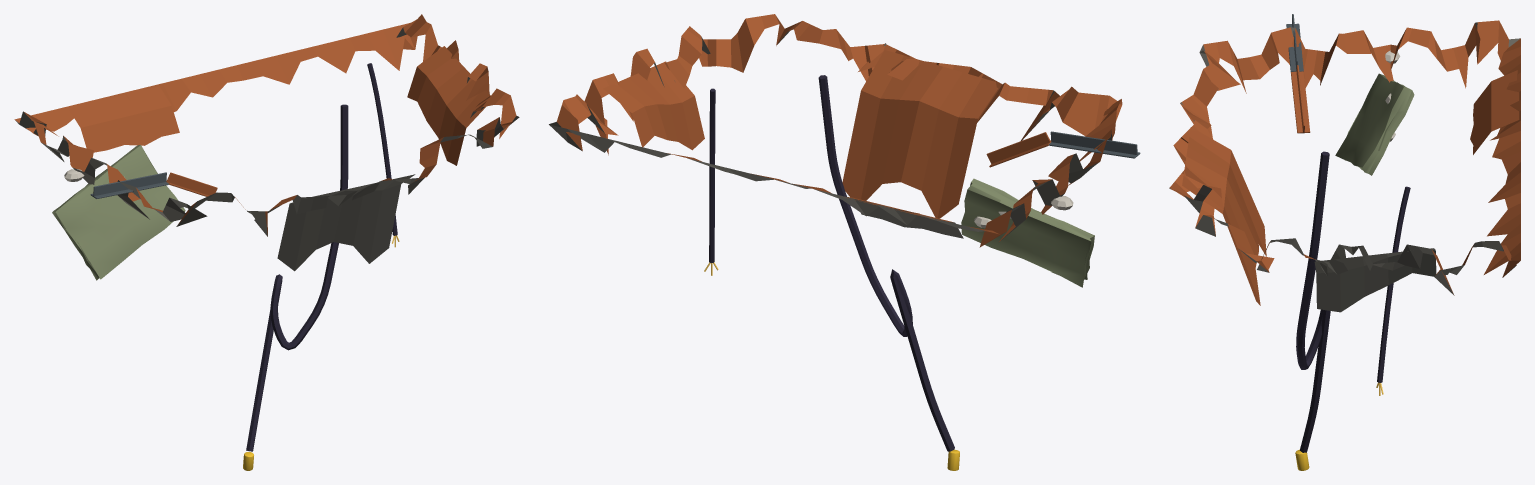
File: hole_rim.glb
The picture shows the model from 3 angles, left to right: view 1: azimuth 30°, elevation 25°; view 2: azimuth 150°, elevation 25°; view 3: azimuth 270°, elevation 25°; orthographic projection. The views are drawn at different scales.
Visible parts, largest first — view 1: Rim; view 2: Rim; view 3: Rim.
Part boxes in pixels (x1,y1,x2,y2): Rim: [14, 14, 519, 470]; Rim: [549, 14, 1140, 470]; Rim: [1169, 14, 1520, 470].
Bounding box in the file's own units: 2.57 × 1.91 × 1.62.
